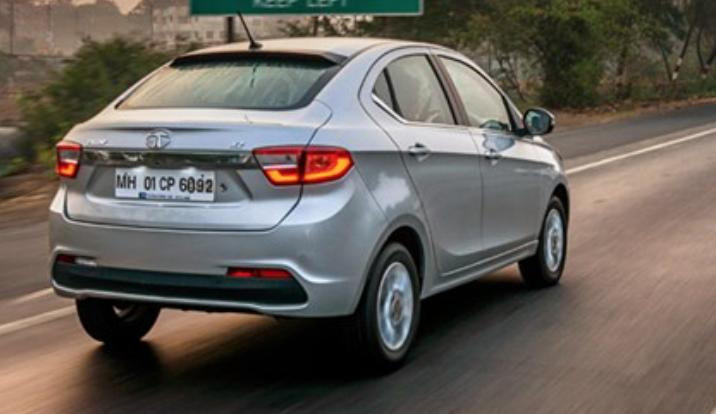car: (32, 21, 589, 379)
